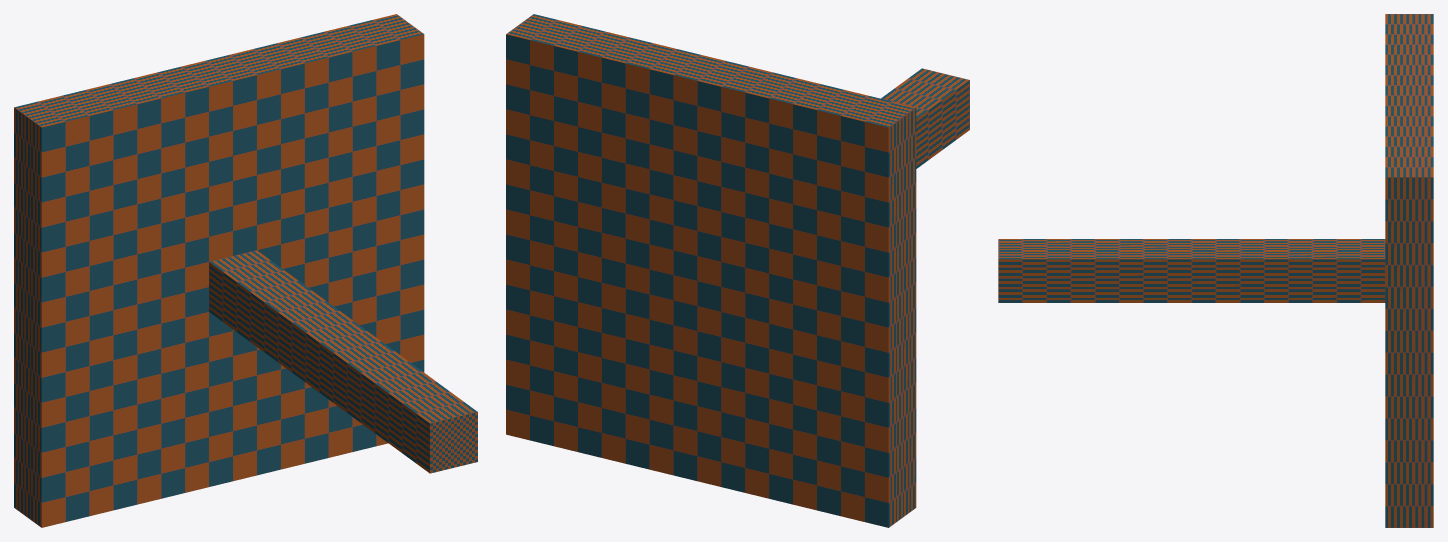
The model's file is wooden_stool.glb.
The picture shows the model from 3 angles, left to right: view 1: azimuth 30°, elevation 25°; view 2: azimuth 150°, elevation 25°; view 3: azimuth 270°, elevation 25°; orthographic projection. The views are drawn at different scales.
Visible parts, largest first — view 1: SM_WS_LOD0, SM_WS_Top_LOD0; view 2: SM_WS_LOD0, SM_WS_Top_LOD0; view 3: SM_WS_LOD0, SM_WS_Top_LOD0.
Part boxes in pixels (x1,y1,x2,y2): SM_WS_LOD0: (14,14,424,527); SM_WS_Top_LOD0: (209,250,477,473); SM_WS_LOD0: (506,14,916,527); SM_WS_Top_LOD0: (881,68,969,168); SM_WS_LOD0: (1385,14,1433,527); SM_WS_Top_LOD0: (998,239,1385,302).
Size of what is drawn, in the model's own units: 0.4 by 0.4 by 0.45.
Materials: 1 (1 with a texture image).
